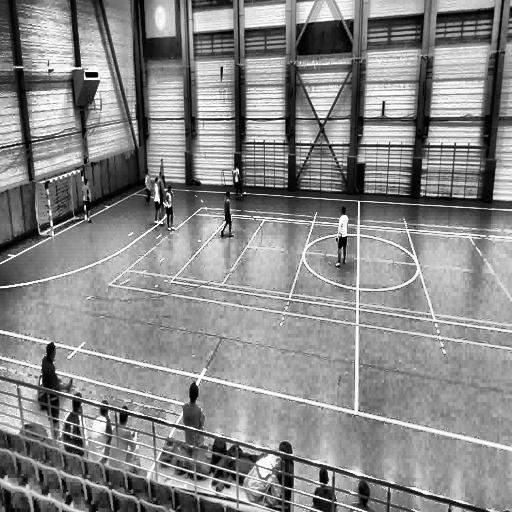ball: (243, 191, 248, 200)
player: (38, 344, 71, 440), (334, 204, 348, 268), (163, 183, 177, 235), (221, 188, 234, 236), (232, 162, 246, 200), (153, 175, 163, 226), (83, 178, 92, 223), (144, 170, 152, 204), (157, 170, 166, 195), (158, 153, 165, 183)
